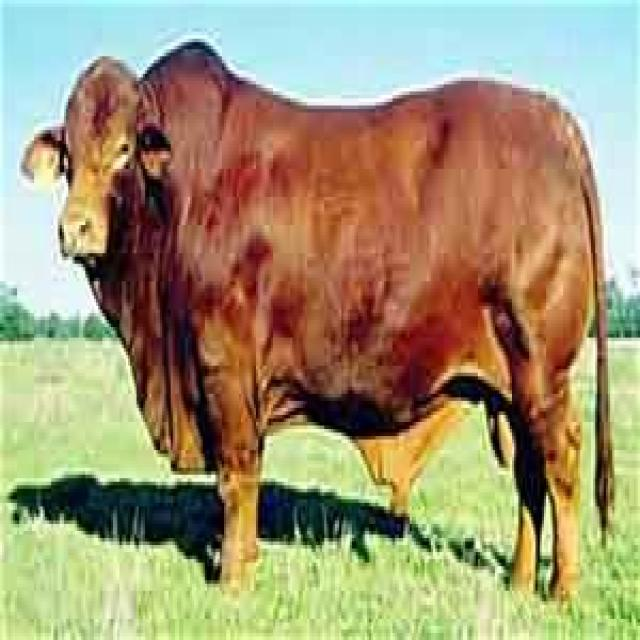cow: (19, 39, 614, 601)
